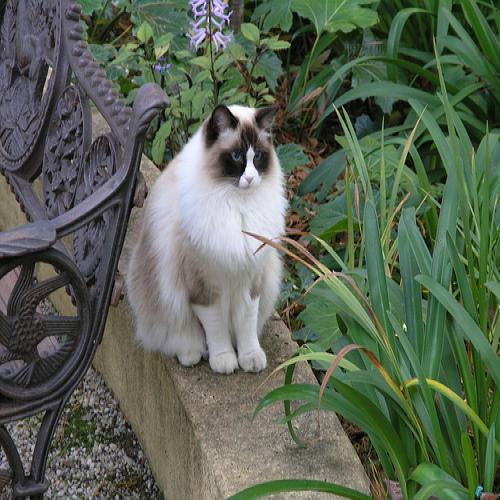ragdoll: (205, 88, 288, 199)
